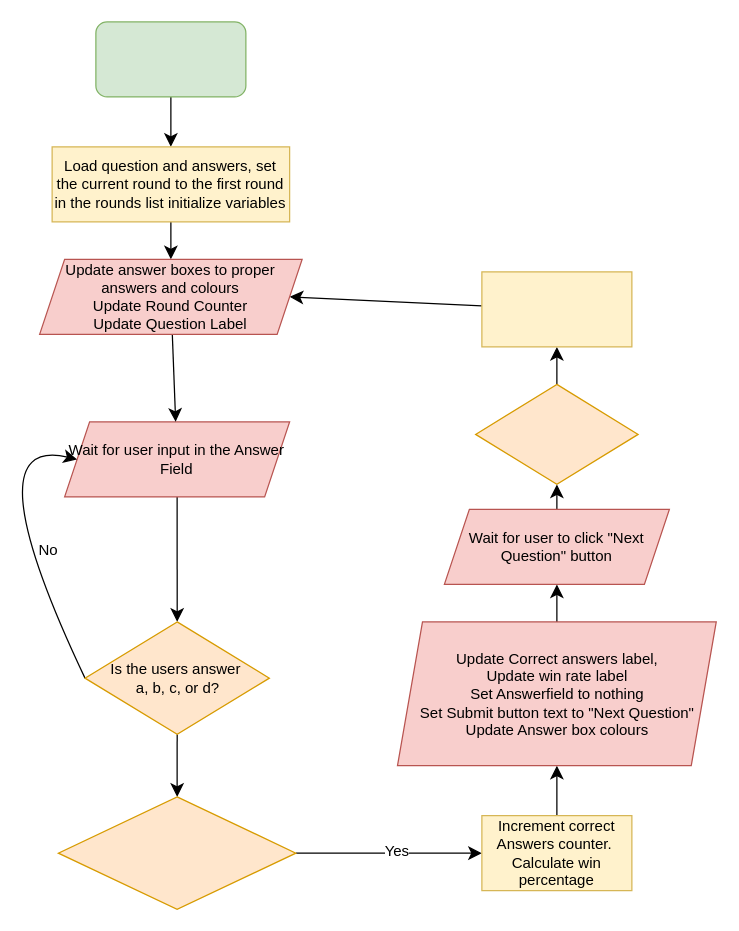
The diagram is 739 pixels wide and 931 high, and some of its shapes have lost their labels. Each missing label, with the box of its shape:
Has user clicked the button: (474, 383, 638, 484)
Is the user's answer the correct answer?: (57, 796, 296, 909)
Set the current round to the next round in the list.: (481, 271, 632, 347)
Start: (95, 21, 246, 97)
